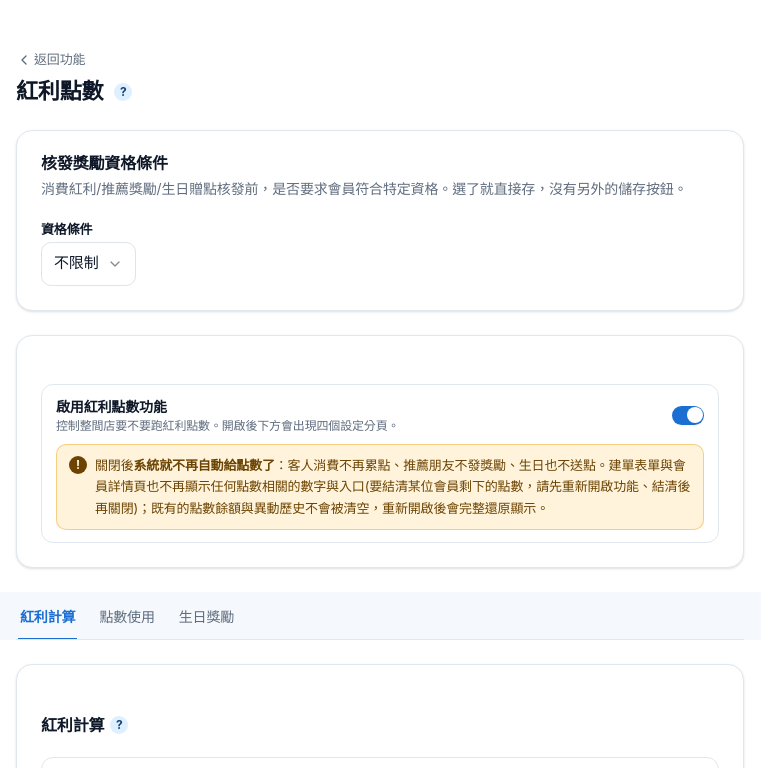
it: §4.5 生日獎勵 › 沒有紀錄 ⇒ 空狀態文字
Click the tab "生日獎勵".
click(206, 618)  # box [177, 596, 236, 640]
(page scrolled)
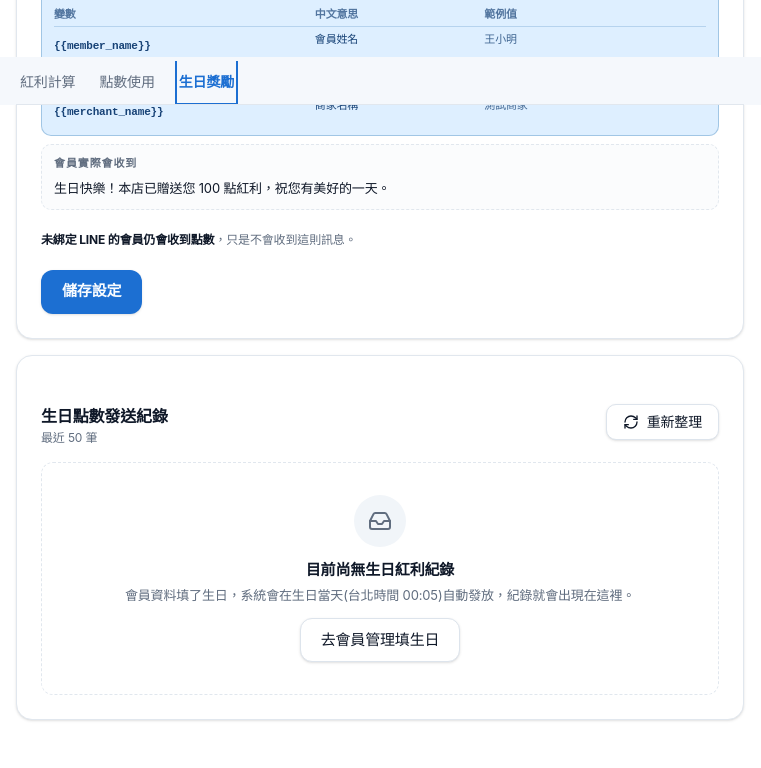
Result: the text "目前尚無生日紅利紀錄" is shown at [306, 560, 454, 578]
Result: the text "最近 50 筆" is shown at [41, 430, 97, 444]
